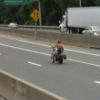Motorcycle: (43, 39, 71, 69)
